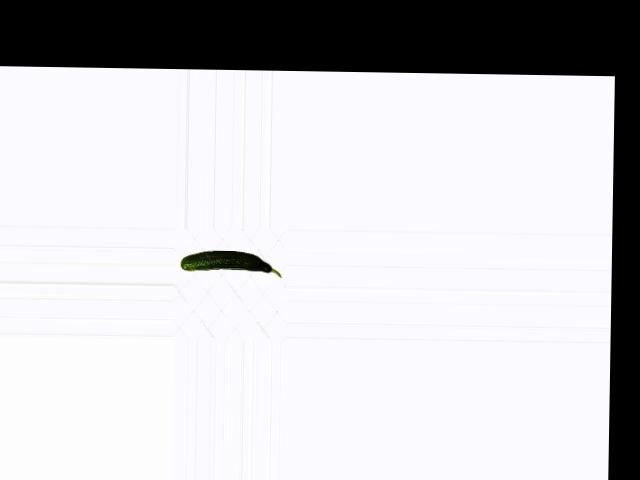cucumber: (181, 250, 282, 277)
